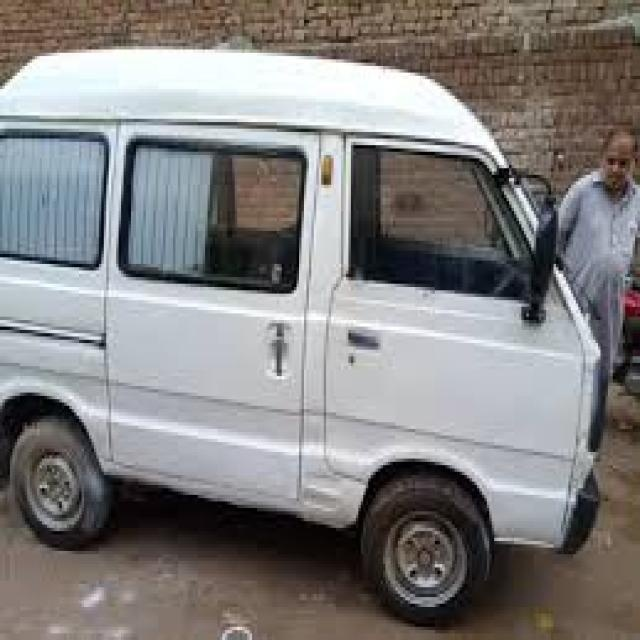Van: (0, 46, 608, 634)
